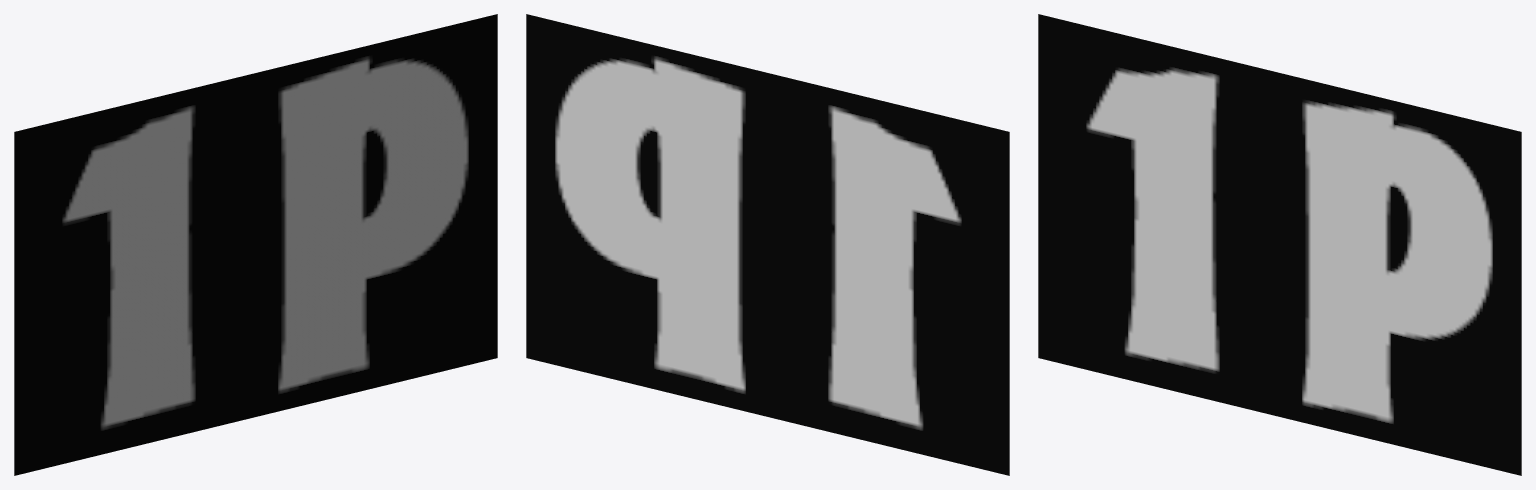
3 views of the same model, side by side, from view 1: azimuth 30°, elevation 25°; view 2: azimuth 150°, elevation 25°; view 3: azimuth 330°, elevation 25° (orthographic).
Visible parts, largest first — view 1: Joint_0_Object_0; view 2: Joint_0_Object_0; view 3: Joint_0_Object_0.
Part boxes in pixels (x1,y1,x2,y2): Joint_0_Object_0: (14, 14, 497, 475); Joint_0_Object_0: (526, 14, 1009, 475); Joint_0_Object_0: (1038, 14, 1521, 475).
Bounding box in the file's own units: 1061 × 722 × 0.
Materials: 1 (1 with a texture image).
